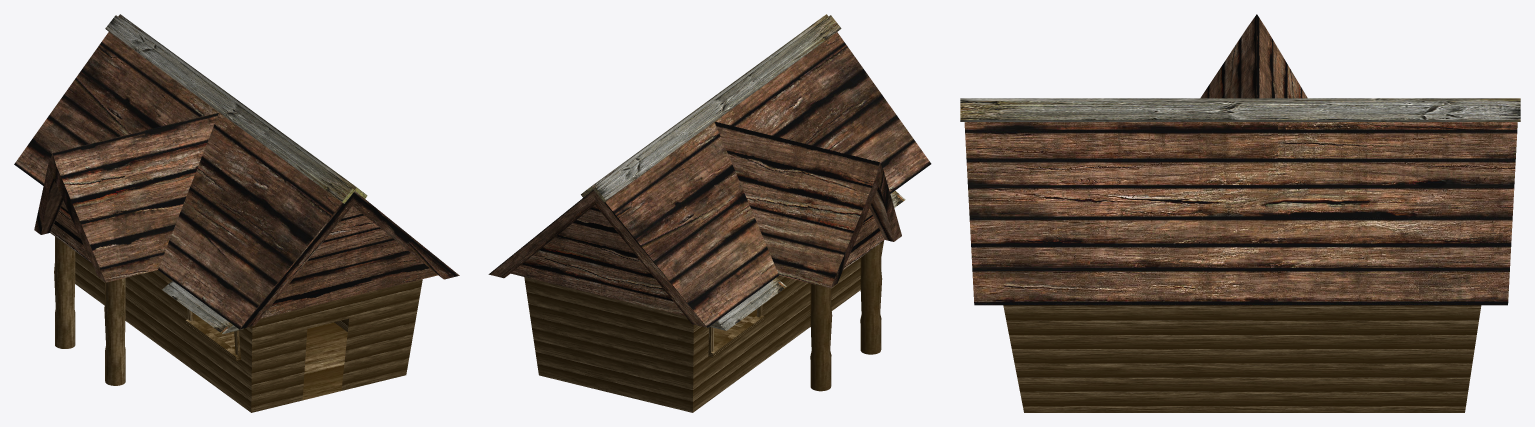
The model's file is hut2.fbx.
3 views of the same model, side by side, from view 1: azimuth 30°, elevation 25°; view 2: azimuth 150°, elevation 25°; view 3: azimuth 270°, elevation 25° (orthographic). The views are drawn at different scales.
Visible parts, largest first — view 1: pasted__pCube48, pasted__pCube47, pasted__pCube211, pasted__pCylinder48, pasted__pCylinder47, pasted__pCube212, pasted__pCube94, pasted__pCube52; view 2: pasted__pCube48, pasted__pCube47, pasted__pCube211, pasted__pCylinder47, pasted__pCylinder48, pasted__pCube212, pasted__pCube93, pasted__pCube51; view 3: pasted__pCube48, pasted__pCube47, pasted__pCube212, pasted__pCube211.
Part boxes in pixels (bbox=[...]): pasted__pCube48: bbox=[14, 32, 459, 329]; pasted__pCube47: bbox=[75, 251, 422, 412]; pasted__pCube211: bbox=[105, 15, 354, 203]; pasted__pCylinder48: bbox=[104, 278, 125, 385]; pasted__pCylinder47: bbox=[54, 237, 75, 348]; pasted__pCube212: bbox=[118, 14, 367, 198]; pasted__pCube94: bbox=[162, 280, 243, 333]; pasted__pCube52: bbox=[185, 308, 240, 360]; pasted__pCube48: bbox=[488, 32, 931, 327]; pasted__pCube47: bbox=[524, 241, 883, 412]; pasted__pCube211: bbox=[593, 15, 841, 202]; pasted__pCylinder47: bbox=[810, 283, 832, 391]; pasted__pCylinder48: bbox=[860, 243, 882, 354]; pasted__pCube212: bbox=[581, 14, 828, 197]; pasted__pCube93: bbox=[709, 277, 786, 330]; pasted__pCube51: bbox=[708, 304, 764, 357]; pasted__pCube48: bbox=[964, 14, 1517, 305]; pasted__pCube47: bbox=[1003, 305, 1481, 412]; pasted__pCube212: bbox=[960, 101, 1520, 121]; pasted__pCube211: bbox=[960, 98, 1520, 100].
Size of the model in its own units: 9.88 by 7.59 by 14.07.
Materials: 3 (3 with a texture image).
